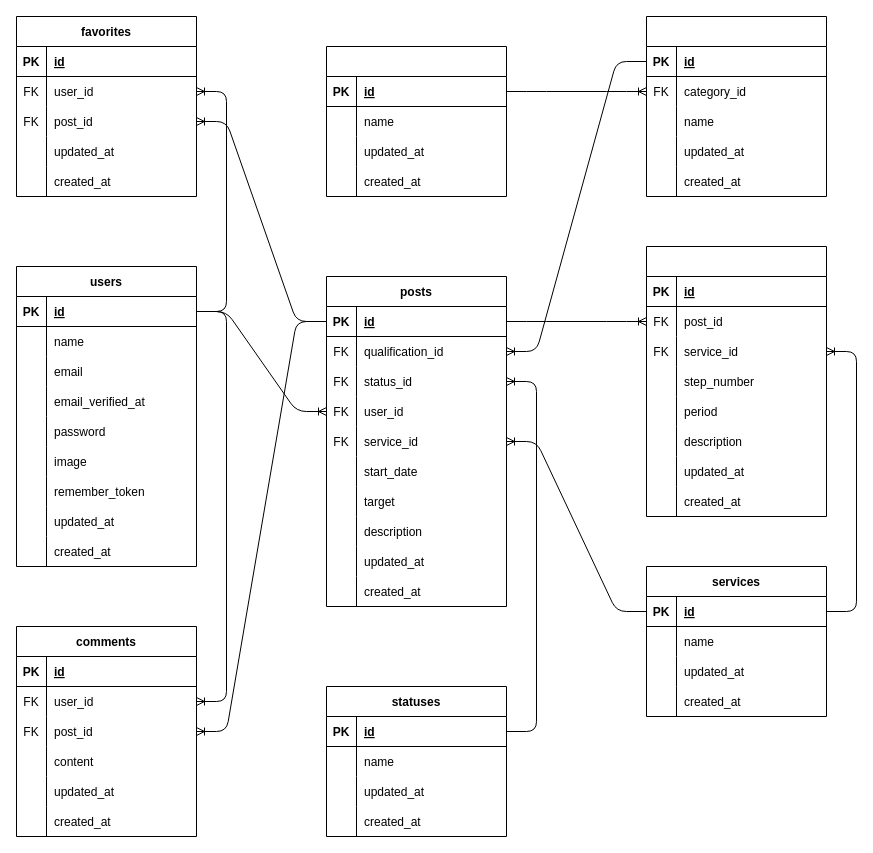
This 873x853 diagram has some shape labels left out. The box of each missing label's shape, as (x1, y1, x2, y2) in pixels:
categories: (326, 46, 506, 196)
qualifications: (646, 16, 826, 196)
steps: (646, 246, 826, 516)
